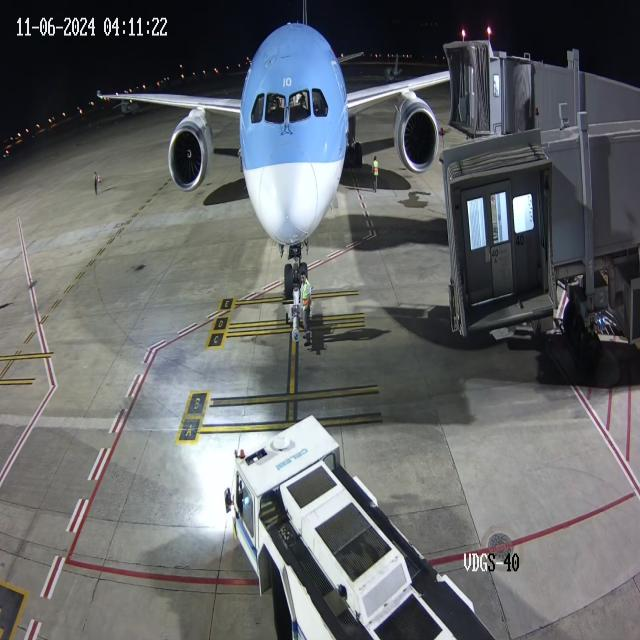bridge: (474, 31, 536, 144)
plane: (85, 0, 440, 304)
window: (248, 84, 334, 128)
